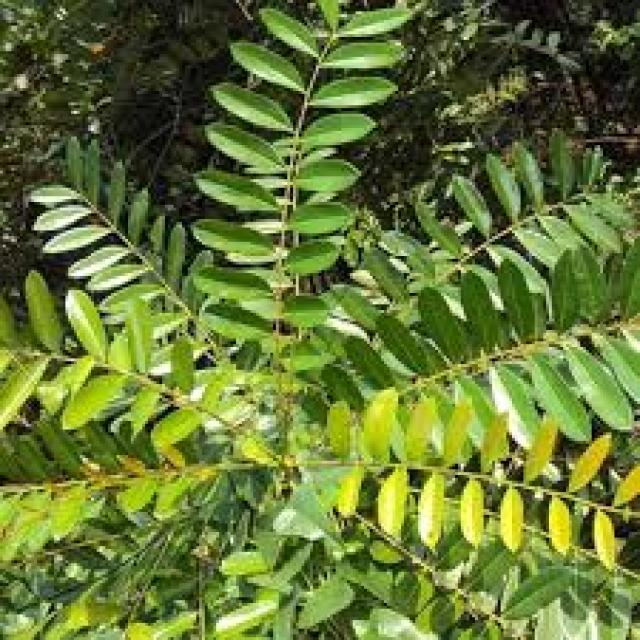healthy_leaf: (72, 36, 566, 638)
